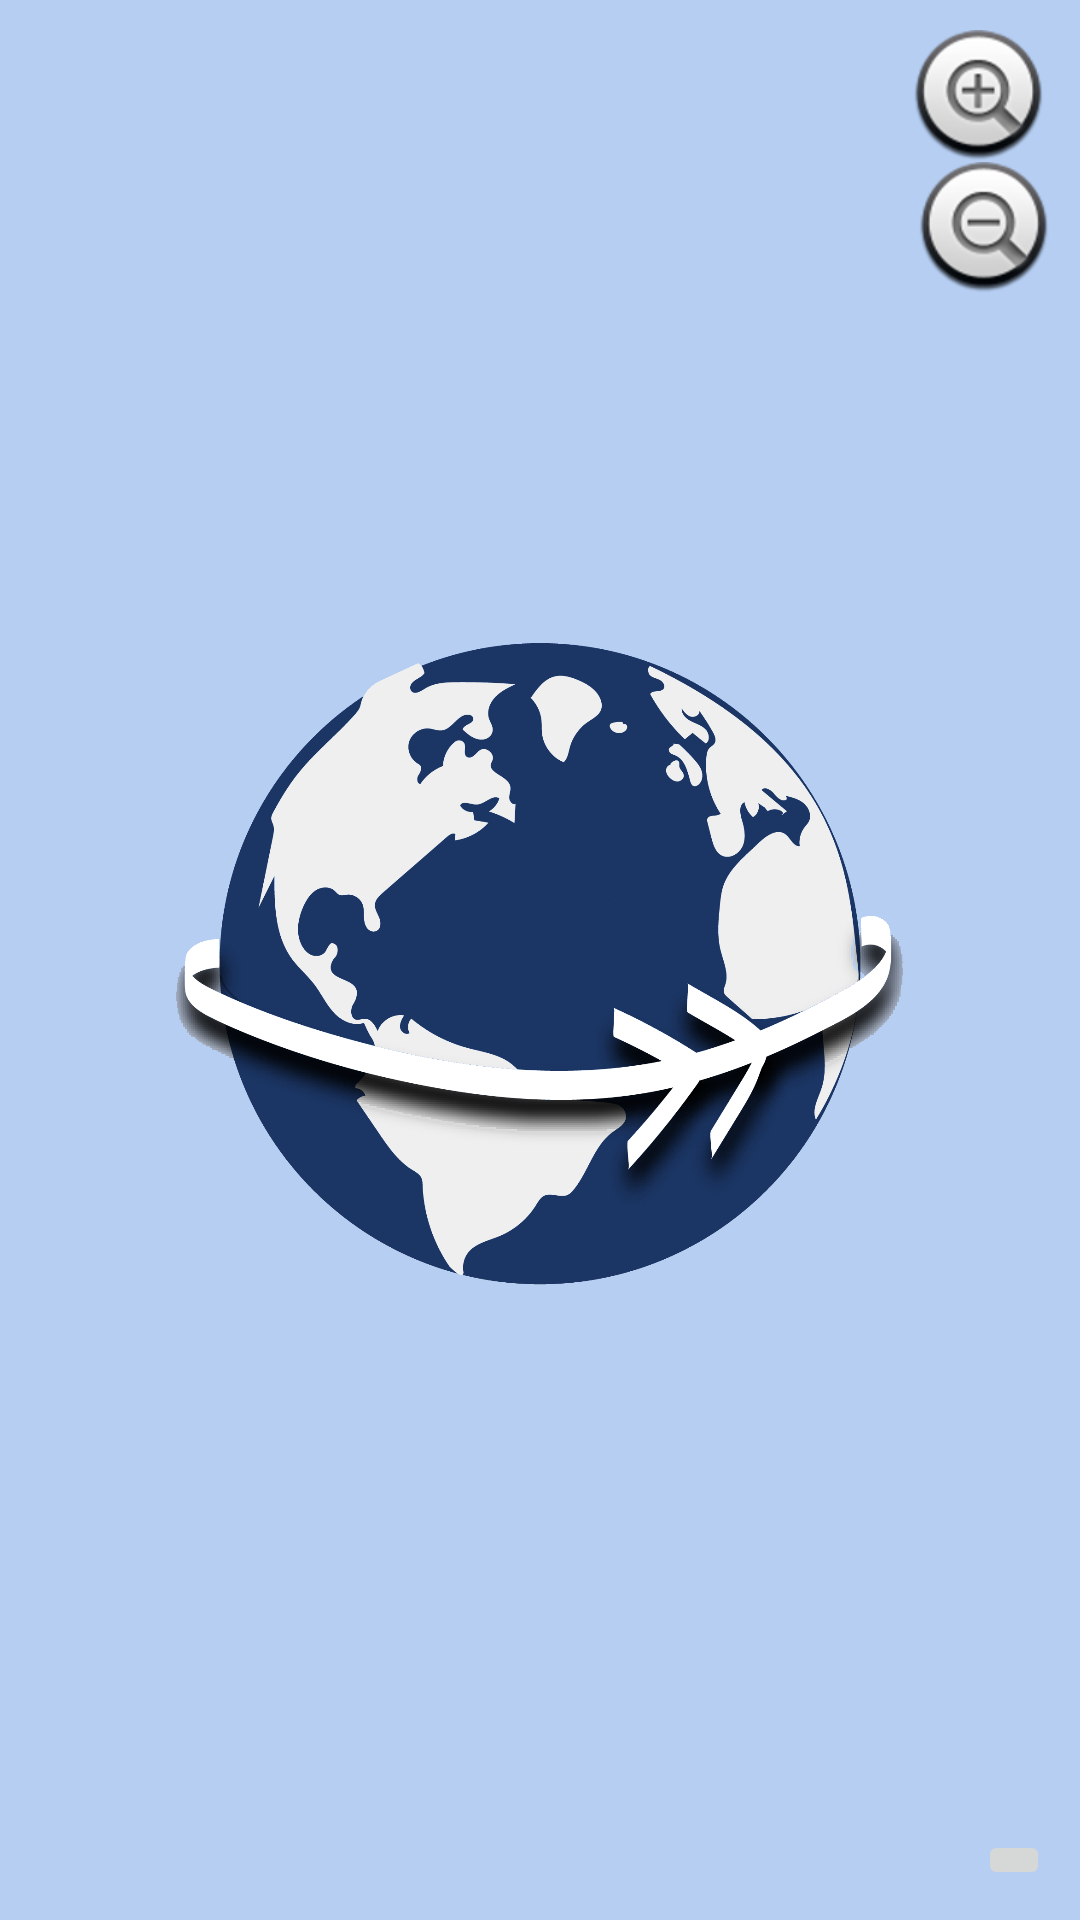

Named icons in this screenshot (1080px×1920px) and their centers, [x,y]:
minus: [983,226]
